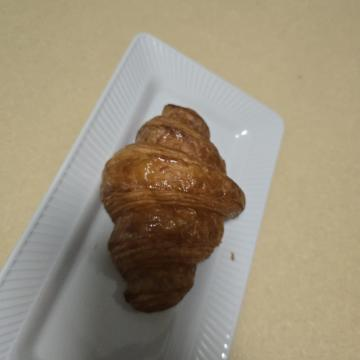croissant: (89, 104, 329, 270)
